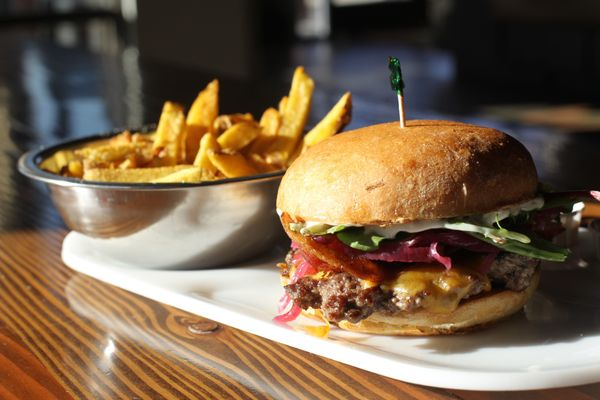soup: (272, 117, 595, 337)
sushi: (17, 70, 345, 248), (17, 131, 301, 248)
